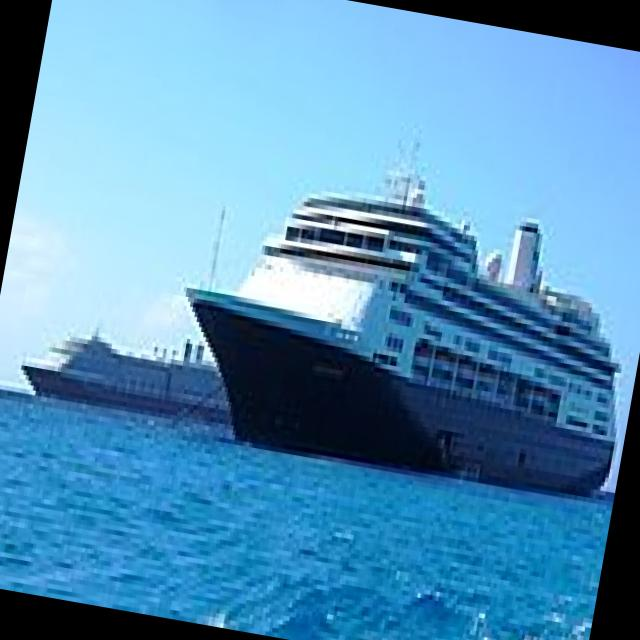boat: (177, 154, 640, 496), (11, 297, 252, 434)
